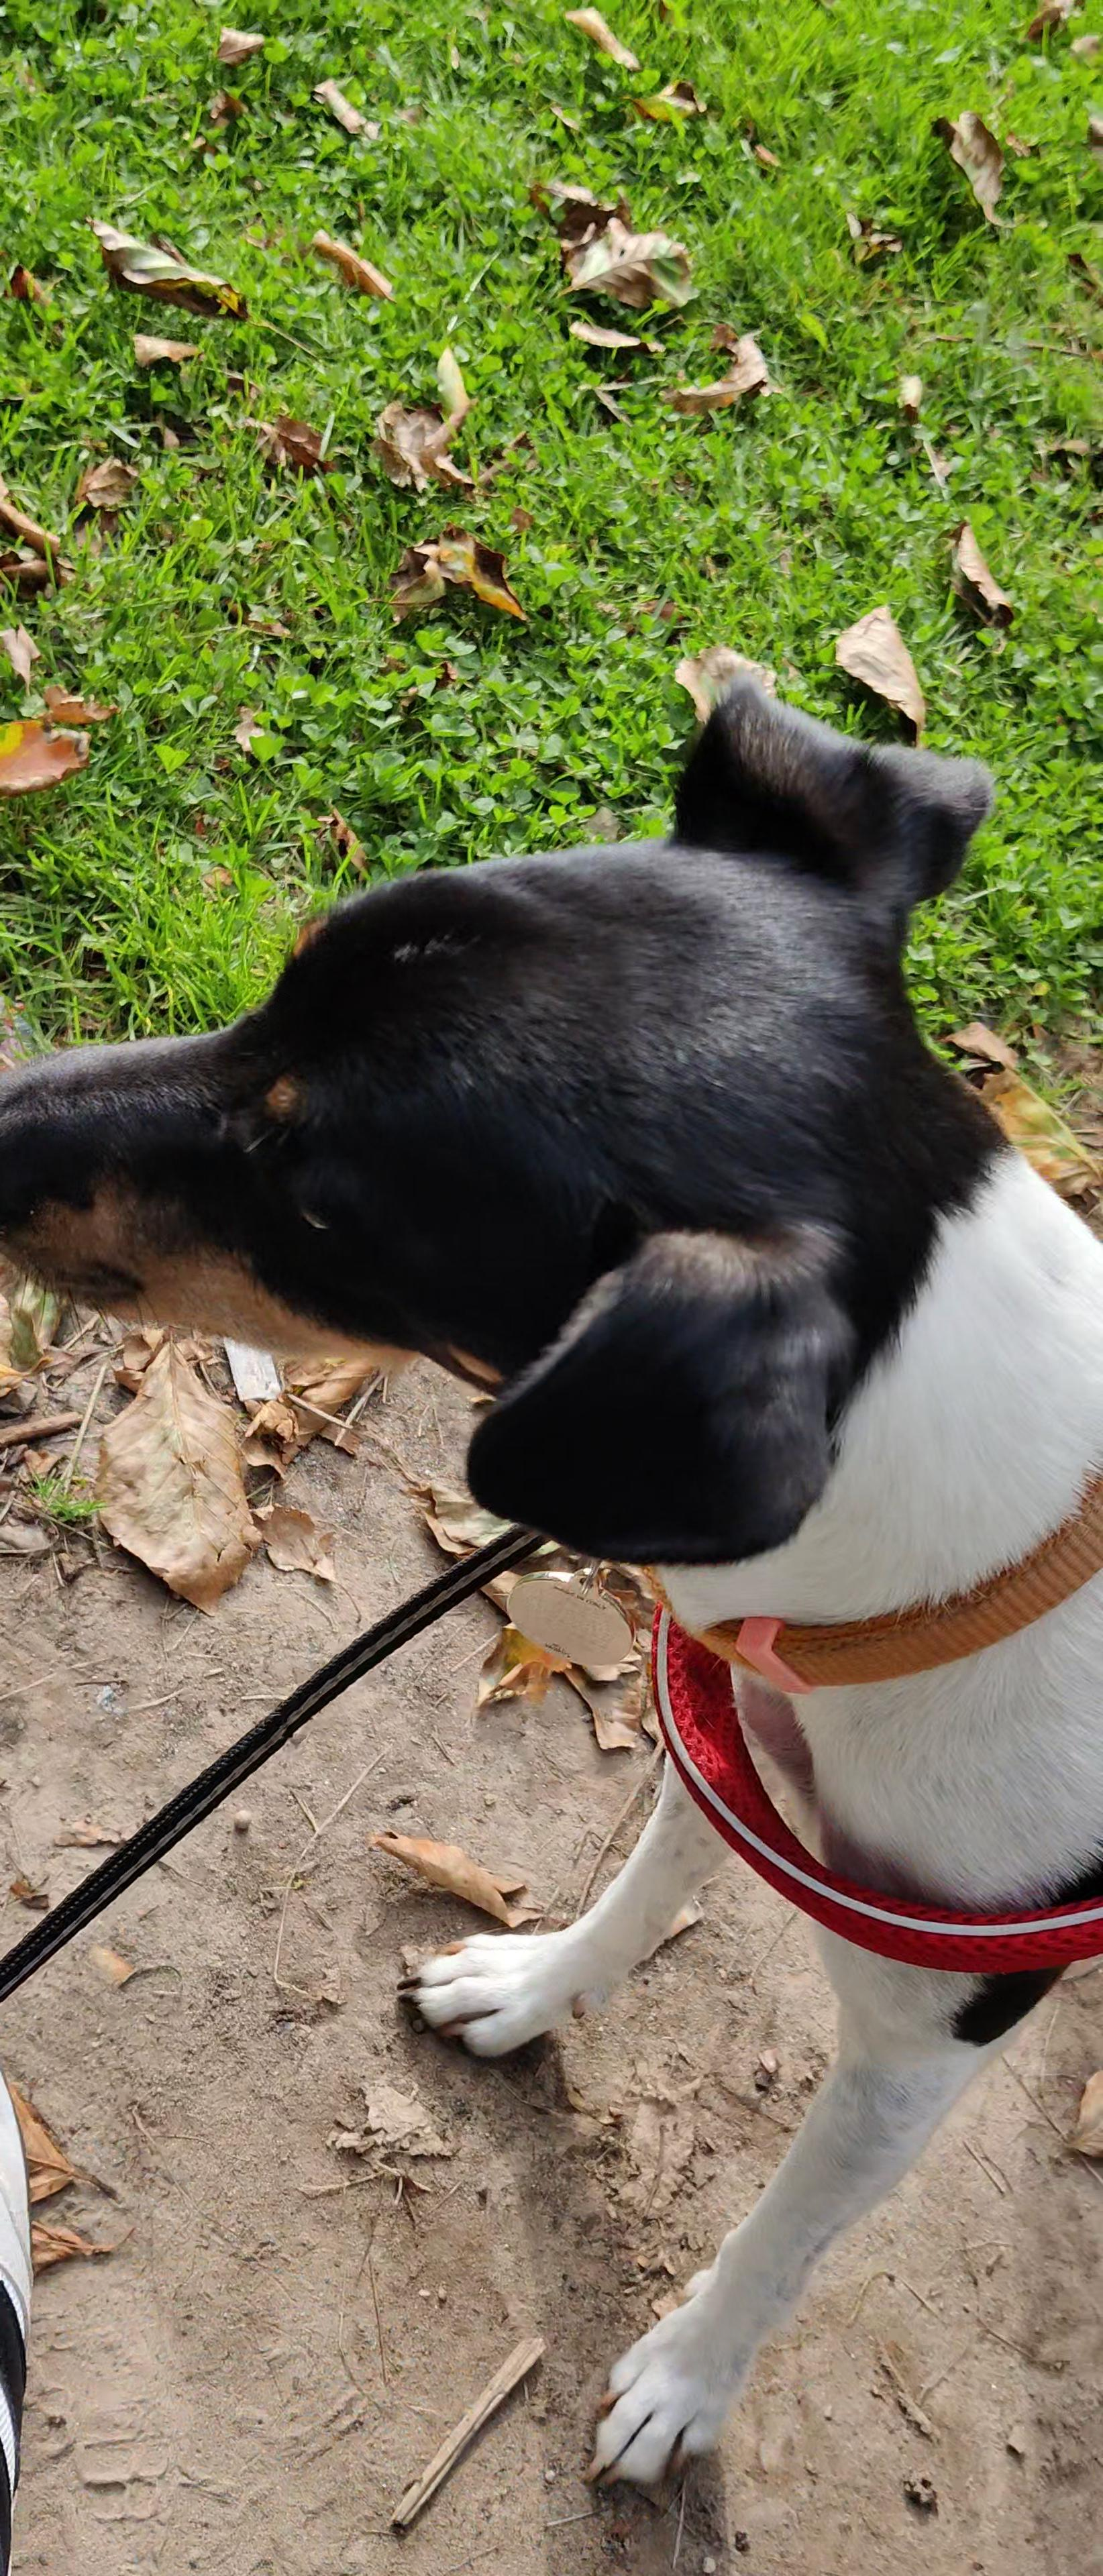Dog: (0, 626, 1103, 2517)
